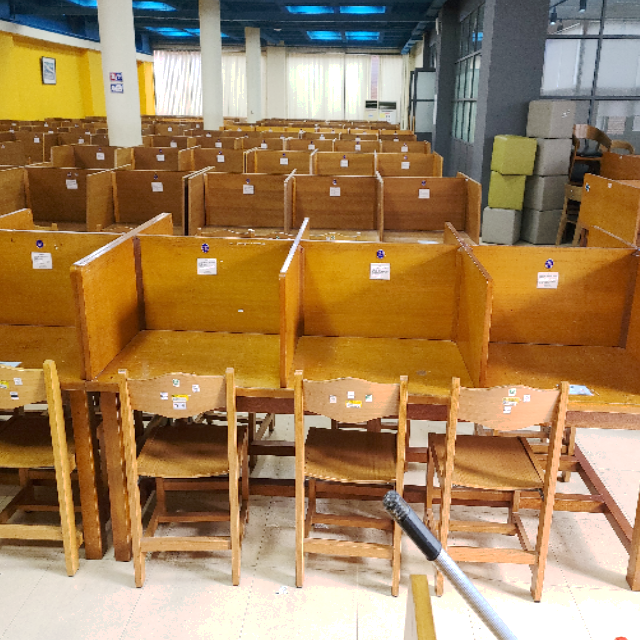empty: (295, 235, 485, 494), (87, 234, 284, 472), (491, 233, 640, 502)
